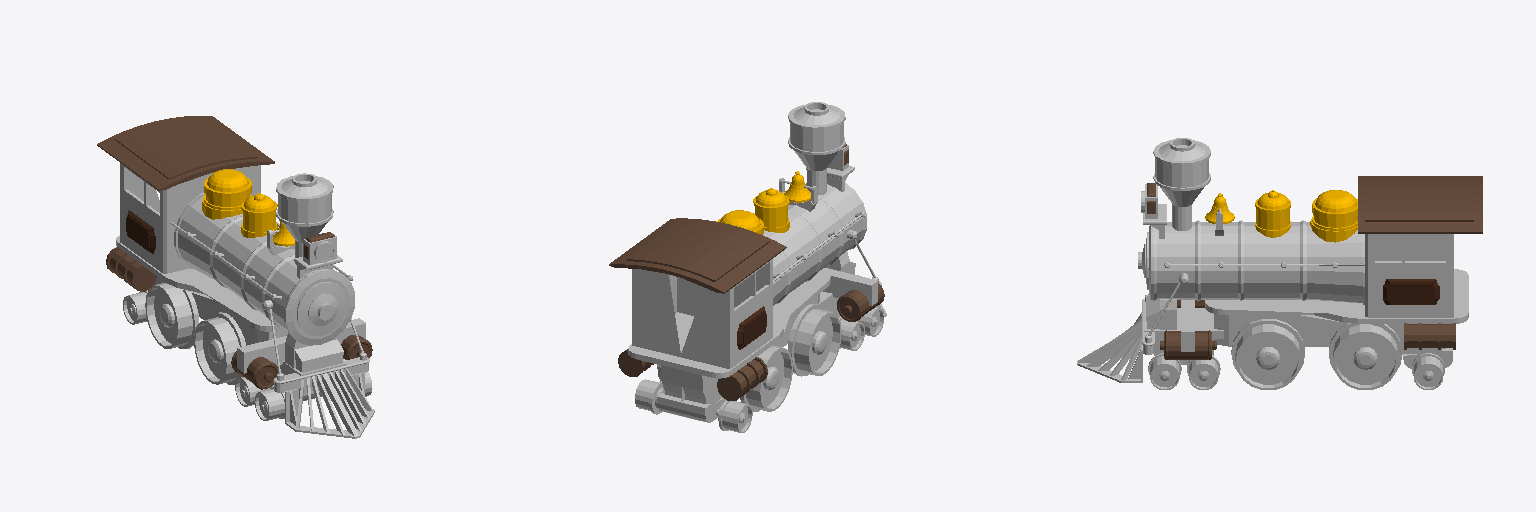
The model's file is Train_head.obj.
3 views of the same model, side by side, from view 1: azimuth 30°, elevation 25°; view 2: azimuth 150°, elevation 25°; view 3: azimuth 270°, elevation 25° (orthographic).
Parts seen in each view (by area): view 1: object_51, object_60, object_8, object_50, object_43, object_41, object_68, object_69, object_53, object_48, object_13, object_35 (+5 smaller); view 2: object_60, object_8, object_53, object_51, object_50, object_41, object_43, object_69, object_48, object_27, object_13, object_70 (+3 smaller); view 3: object_51, object_53, object_8, object_6, object_7, object_50, object_60, object_68, object_71, object_69, object_47, object_12 (+4 smaller).
Boxes of the visible parts, box(x1,y1,x2,y2) form: object_51: box(174, 192, 354, 345); object_60: box(116, 163, 324, 400); object_8: box(97, 116, 274, 190); object_50: box(276, 173, 333, 264); object_43: box(145, 281, 198, 348); object_41: box(194, 312, 245, 384); object_68: box(202, 169, 251, 219); object_69: box(241, 193, 277, 237); object_53: box(213, 165, 369, 396); object_48: box(106, 247, 156, 291); object_13: box(231, 351, 278, 389); object_35: box(285, 389, 357, 438); object_60: box(674, 251, 881, 422); object_8: box(609, 218, 786, 293); object_53: box(628, 269, 703, 416); object_51: box(763, 182, 866, 305); object_50: box(788, 102, 845, 194); object_41: box(788, 304, 841, 376); object_43: box(740, 344, 792, 411); object_69: box(753, 188, 789, 232); object_48: box(717, 357, 767, 400); object_27: box(716, 400, 752, 432); object_13: box(837, 283, 884, 321); object_70: box(737, 306, 766, 349); object_51: box(1138, 220, 1364, 304); object_53: box(1142, 234, 1468, 368); object_8: box(1358, 176, 1482, 233); object_6: box(1231, 319, 1304, 389); object_7: box(1329, 323, 1402, 389); object_50: box(1153, 138, 1210, 230); object_60: box(1142, 239, 1468, 320); object_68: box(1310, 190, 1357, 242); object_71: box(1383, 279, 1439, 304); object_69: box(1255, 190, 1290, 237); object_47: box(1404, 323, 1455, 349); object_12: box(1160, 330, 1216, 359).
Bounding box in the file's own units: 41.25 × 71.79 × 117.